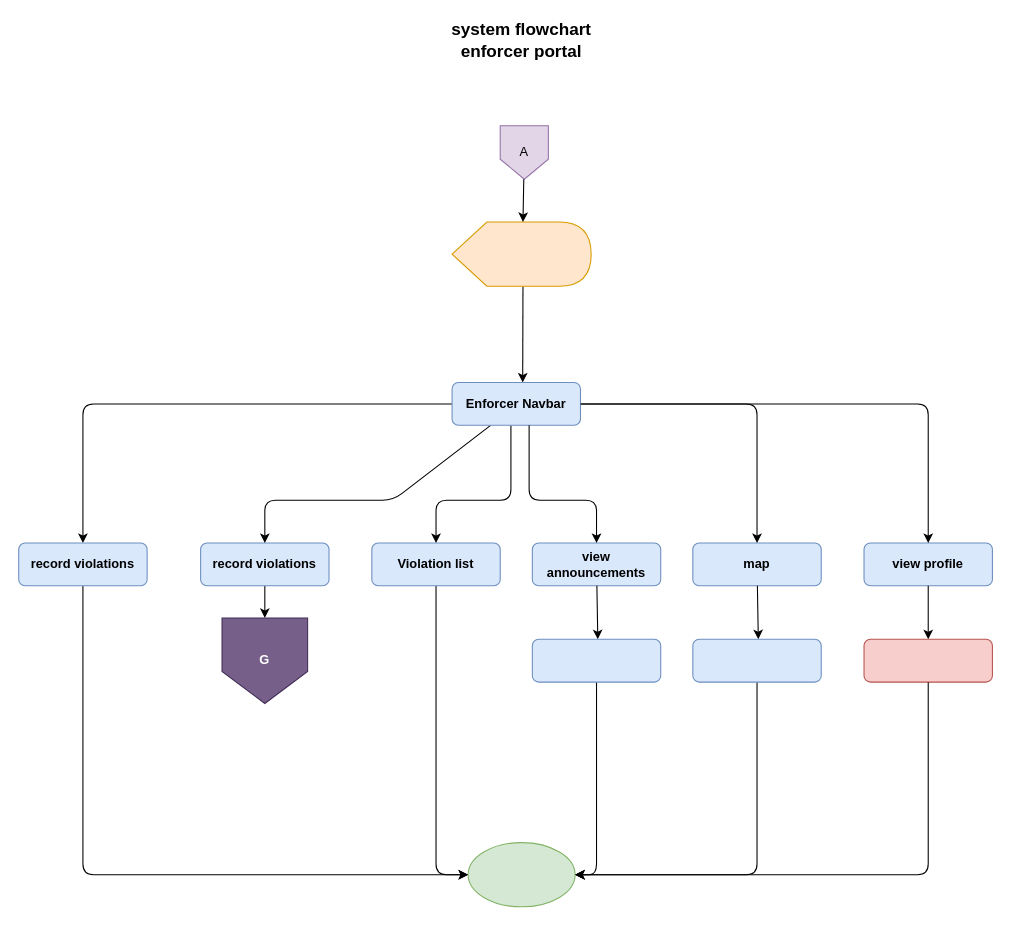
This 1011x926 diagram has some shape labels left out. Here are the shapes that lost their labels. From the top down, the centre of each, then its label:
the point at 521,253: Display of enforcer dashboard
the point at 596,660: Fill up form
the point at 756,660: List of active and inactive enforcers
the point at 927,660: logout
the point at 521,874: end
